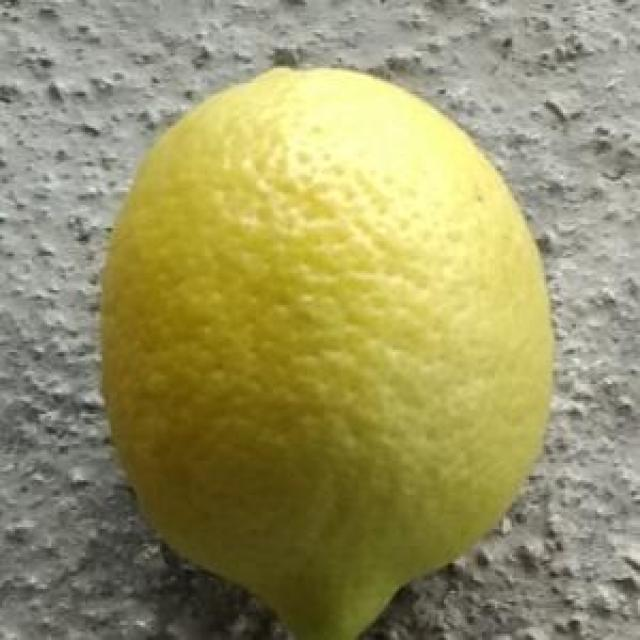lemon: (99, 60, 560, 636)
